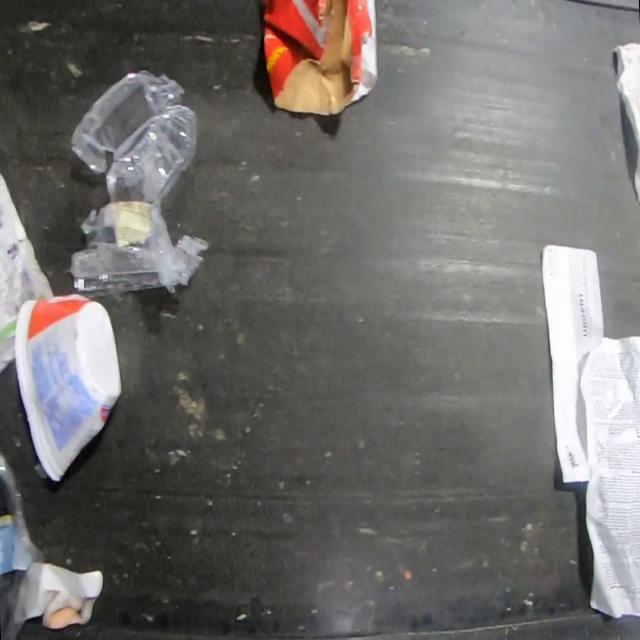cardboard: (261, 0, 378, 116)
rigid_plastic: (70, 70, 212, 300), (12, 292, 124, 484)
soft_plastic: (0, 446, 44, 640)
